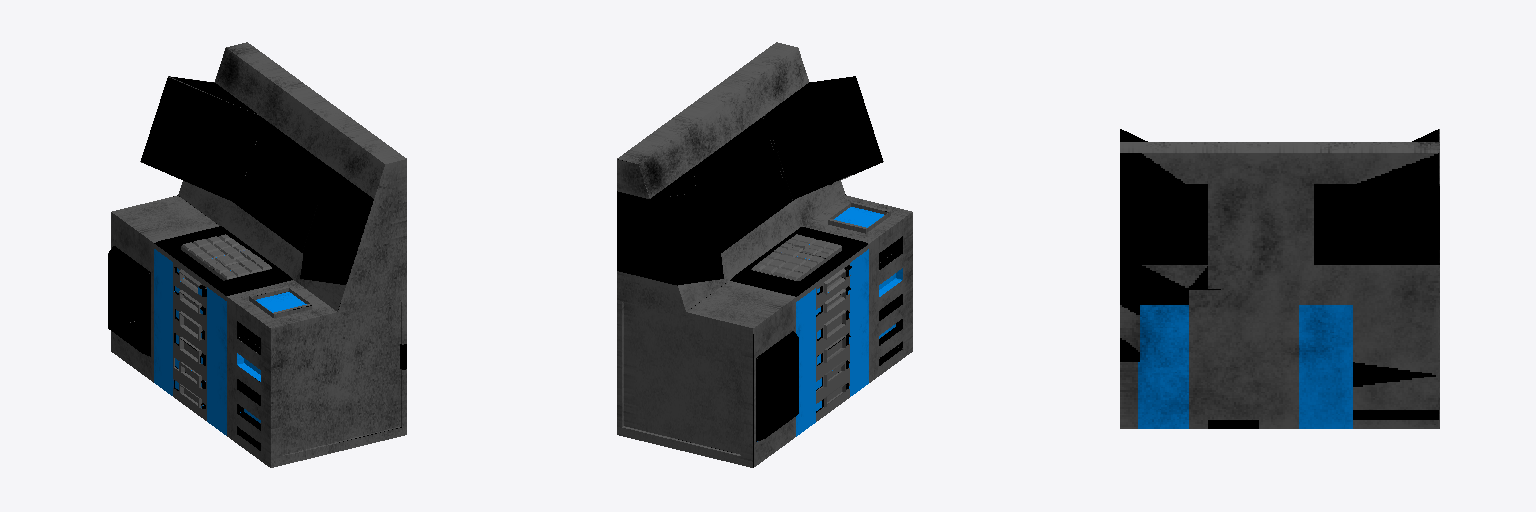
3 renders of one model, left to right at view 1: azimuth 30°, elevation 25°; view 2: azimuth 150°, elevation 25°; view 3: azimuth 270°, elevation 25°, orthographic.
Visible parts, largest first — view 1: komputer_Cube.066; view 2: komputer_Cube.066; view 3: komputer_Cube.066.
Part boxes in pixels (x1,y1,x2,y2): komputer_Cube.066: (108, 42, 406, 467); komputer_Cube.066: (617, 42, 912, 467); komputer_Cube.066: (1120, 129, 1439, 428).
Size of the model in its own units: 2.52 by 4.57 by 4.79.
Materials: 1 (1 with a texture image).